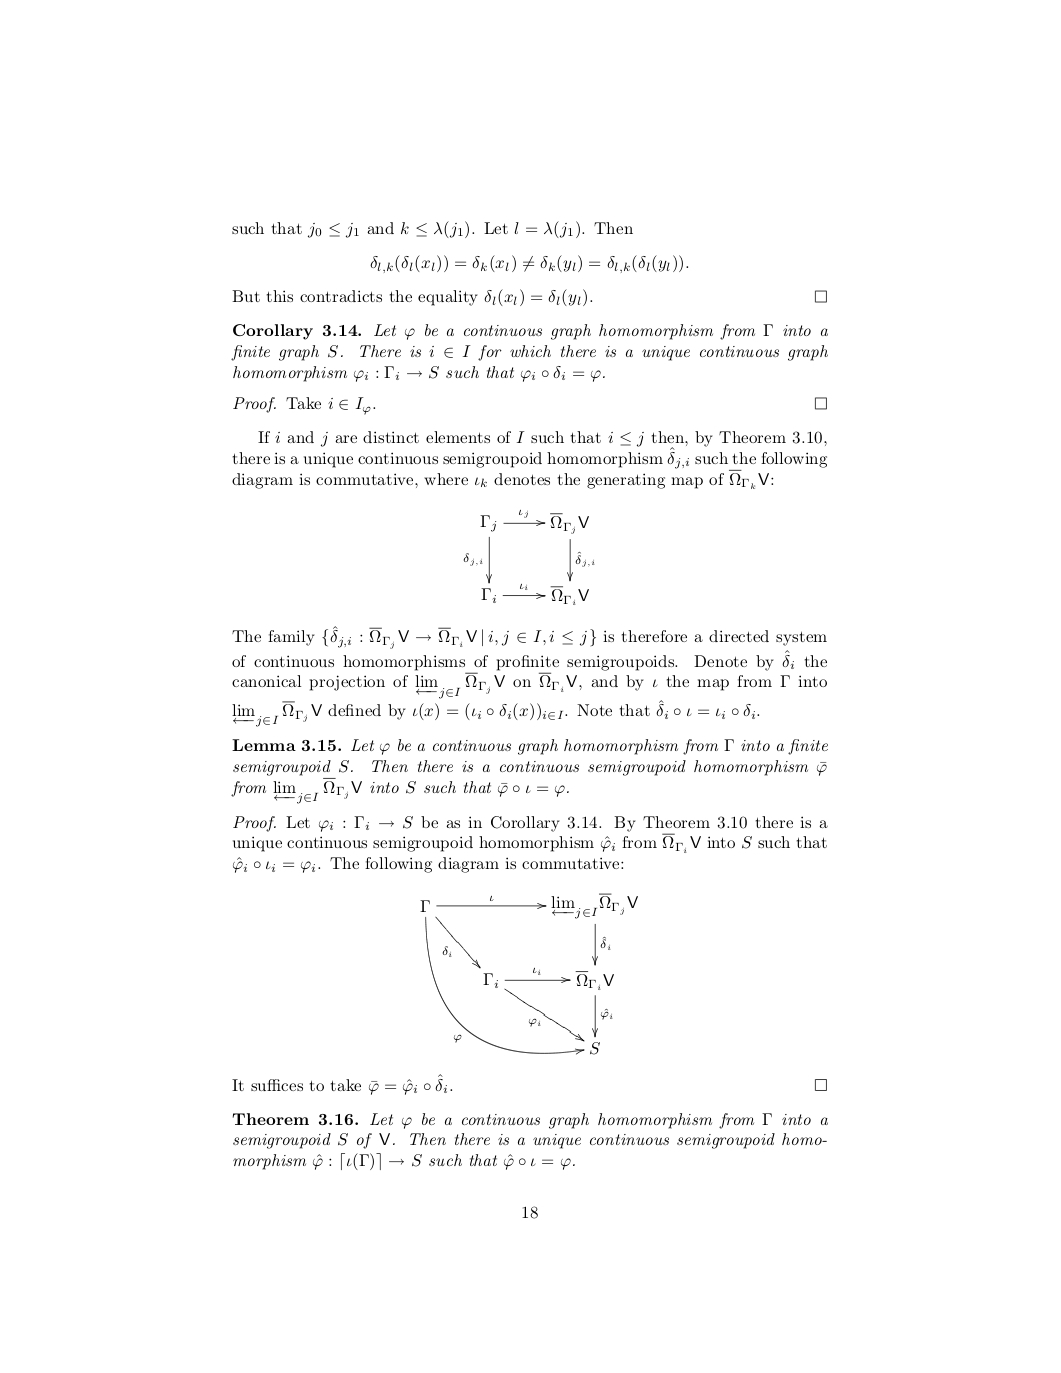formula: (420, 893, 637, 1054), (463, 509, 594, 604), (370, 254, 688, 274)
